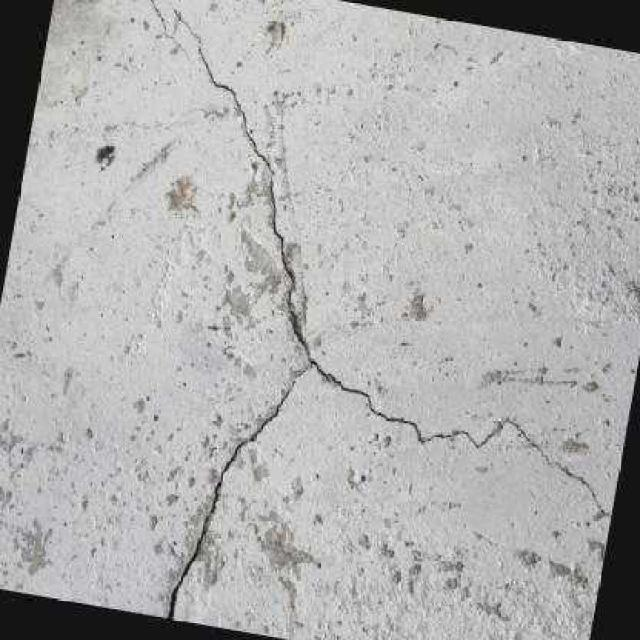D00: (164, 8, 610, 618), (149, 0, 186, 54)
